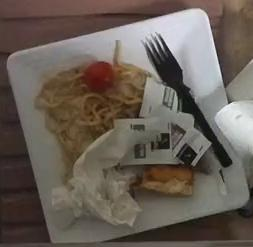pasta: (37, 63, 145, 174)
pizza_crust: (130, 165, 193, 196)
tomato: (84, 62, 115, 91)
